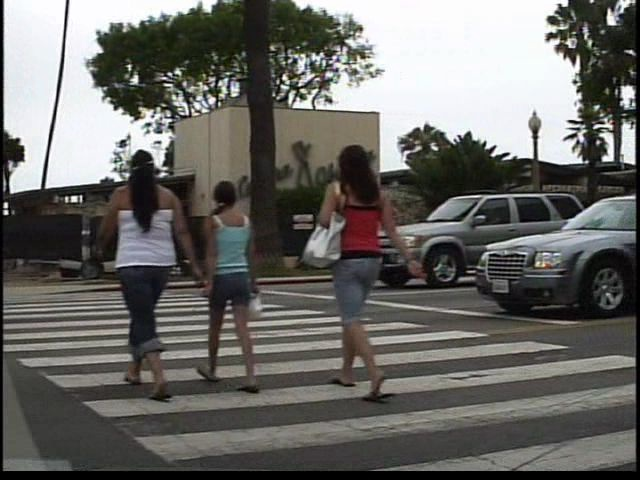person: (319, 131, 425, 399), (81, 140, 178, 402), (203, 173, 278, 398)
